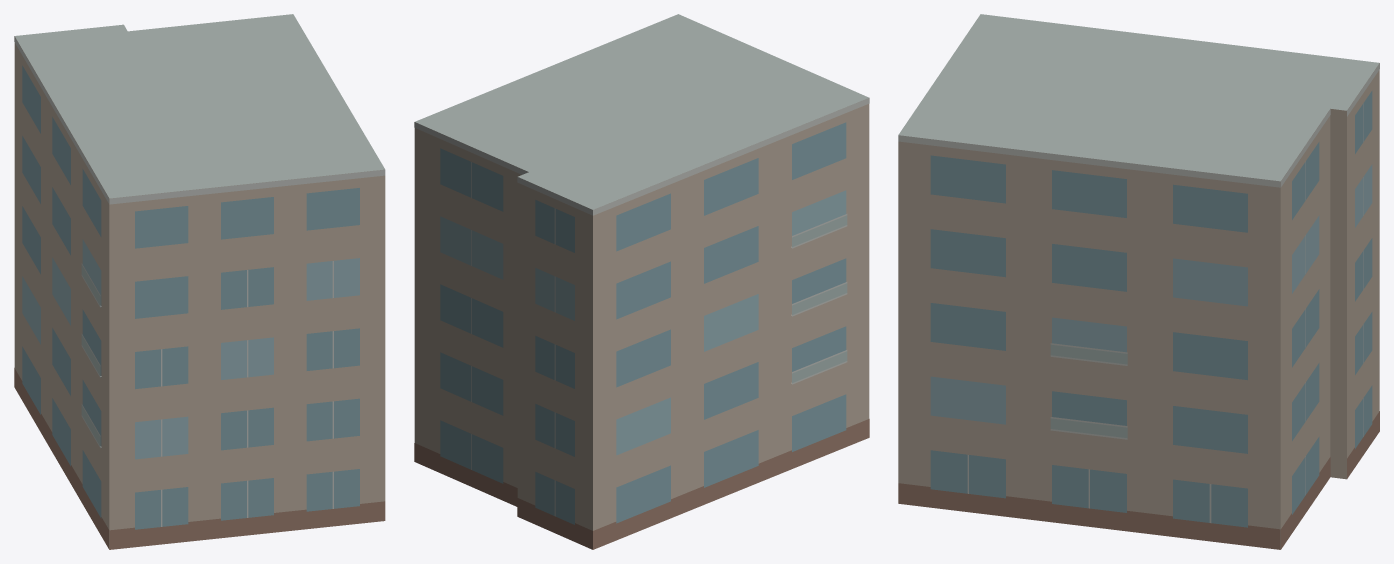
File: survey-upis-32955286.glb
3 views of the same model, side by side, from view 1: azimuth 30°, elevation 25°; view 2: azimuth 150°, elevation 25°; view 3: azimuth 270°, elevation 25° (orthographic). The views are drawn at different scales.
Visible parts, largest first — view 1: survey-upis-32955286.tmp; view 2: survey-upis-32955286.tmp; view 3: survey-upis-32955286.tmp.
Part boxes in pixels (<box>): survey-upis-32955286.tmp: <box>14,14,385,549</box>; survey-upis-32955286.tmp: <box>414,14,869,549</box>; survey-upis-32955286.tmp: <box>898,14,1379,549</box>.
Size of the model in its own units: 13.84 by 14.2 by 16.83.
